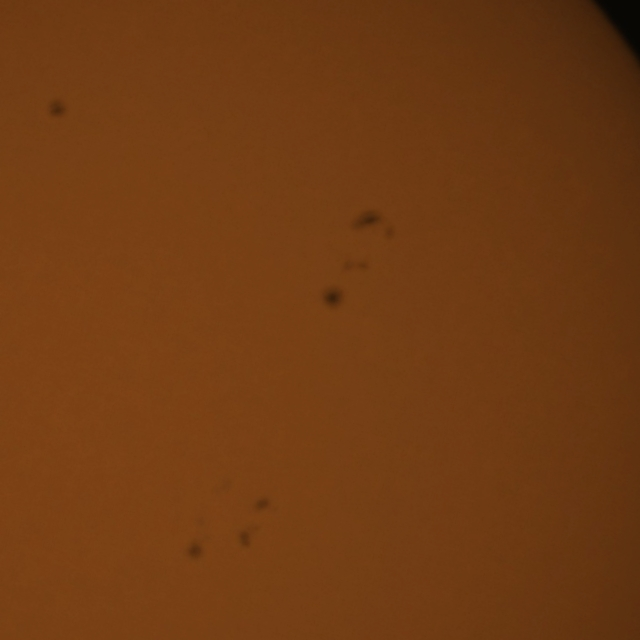sunspot: (352, 208, 394, 242), (320, 286, 347, 312), (251, 495, 278, 517), (46, 97, 68, 120), (184, 540, 204, 563), (237, 527, 254, 552)
